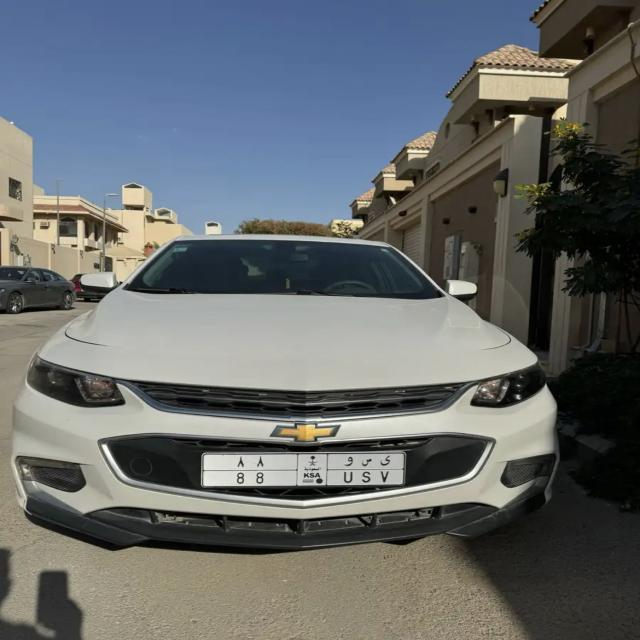license_plate: (204, 452, 408, 488)
